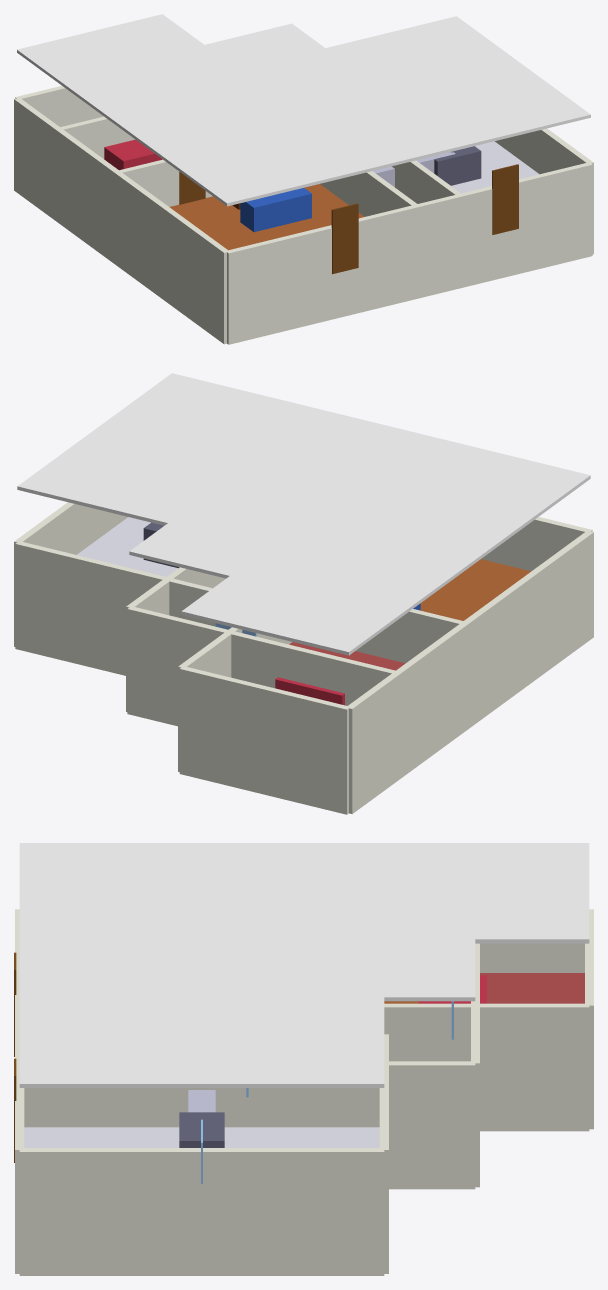
The model's file is realistic_house_1751799757.obj.
3 renders of one model, top to bottom at view 1: azimuth 30°, elevation 25°; view 2: azimuth 150°, elevation 25°; view 3: azimuth 270°, elevation 25°, orthographic. The views are drawn at different scales.
Parts seen in each view (by area): view 1: Living_Room_ceiling, Kitchen_ceiling, Living_Room_wall_0, Living_Room_wall_3, Kitchen_wall_0, Bedroom_ceiling, Bedroom_wall_3, Living_Room_floor, Kitchen_wall_1, Kitchen_wall_3, living_room_sofa, Bedroom_wall_2 (+10 smaller); view 2: Living_Room_ceiling, Kitchen_ceiling, Living_Room_wall_3, Bedroom_wall_2, Kitchen_wall_2, Living_Room_wall_2, Bedroom_wall_3, Bedroom_ceiling, Living_Room_floor, Kitchen_wall_1, Living_Room_wall_0, Bedroom_wall_0 (+5 smaller); view 3: Living_Room_ceiling, Kitchen_wall_1, Kitchen_ceiling, Living_Room_wall_1, Bedroom_wall_1, Bedroom_ceiling, Kitchen_floor, Bedroom_wall_3, Bedroom_floor, kitchen_island, Kitchen_wall_2, Kitchen_wall_0 (+4 smaller).
Boxes of the visible parts, x1,y1,x2,y2 form: Living_Room_ceiling: (59,23,458,206); Kitchen_ceiling: (282,16,590,160); Living_Room_wall_0: (226,195,461,344); Living_Room_wall_3: (56,128,229,344); Kitchen_wall_0: (415,162,592,298); Bedroom_ceiling: (17,14,262,124); Bedroom_wall_3: (14,97,116,263); Living_Room_floor: (169,184,364,250); Kitchen_wall_1: (495,128,593,254); Kitchen_wall_3: (320,171,417,216); living_room_sofa: (240,188,311,232); Bedroom_wall_2: (15,86,103,126); Living_Room_ceiling: (129,410,590,619); Kitchen_ceiling: (17,373,371,535); Living_Room_wall_3: (396,531,593,777); Bedroom_wall_2: (179,666,350,814); Kitchen_wall_2: (15,541,215,675); Living_Room_wall_2: (127,606,398,726); Bedroom_wall_3: (348,625,468,813); Bedroom_ceiling: (181,545,463,655); Living_Room_floor: (346,559,530,667); Kitchen_wall_1: (14,502,127,646); Living_Room_wall_0: (481,517,592,571); Bedroom_wall_0: (356,609,466,663); Living_Room_ceiling: (19,843,475,1001); Kitchen_wall_1: (19,1148,384,1275); Kitchen_ceiling: (19,968,384,1087); Living_Room_wall_1: (24,1061,475,1189); Bedroom_wall_1: (384,1003,589,1131); Bedroom_ceiling: (316,843,589,943); Kitchen_floor: (24,1127,379,1147); Bedroom_wall_3: (480,943,584,972); Bedroom_floor: (385,973,584,1003); kitchen_island: (179,1112,224,1147); Kitchen_wall_2: (379,1034,388,1273); Kitchen_wall_0: (15,1034,24,1273).
Bounding box in the file's own units: 13.3 × 4.6 × 12.73.
